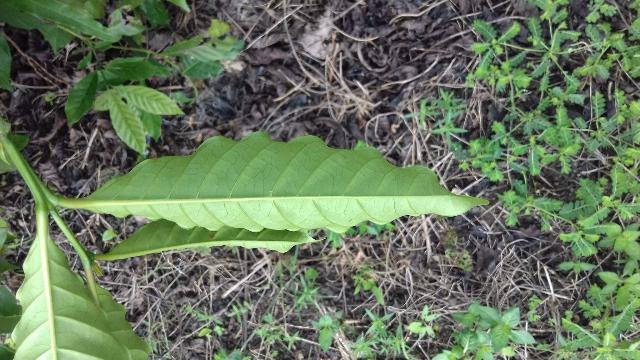healthy: (59, 133, 489, 235)
